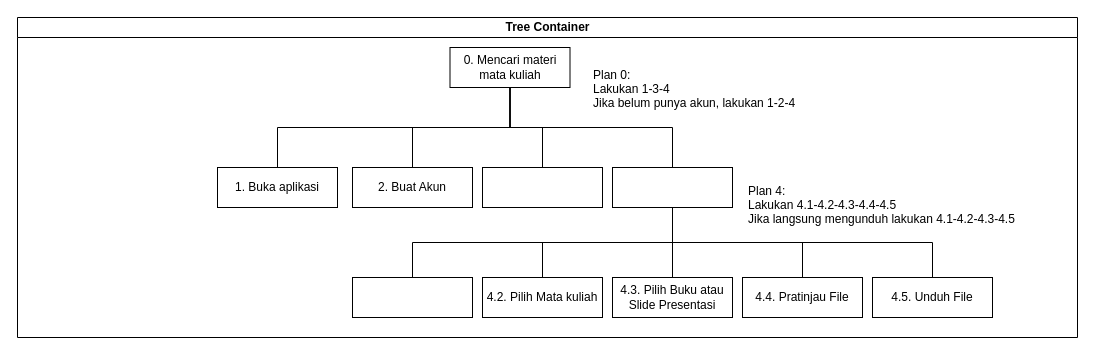
Image size: 1095x355. Some labels were removed from this diagram. The centre of each missing label's shape, as x and y in pixels:
3. Login: the point at 542,187
4. Cari Materi yang dibutuhkan: the point at 672,187
4.1. Pilih Semester: the point at 412,297
